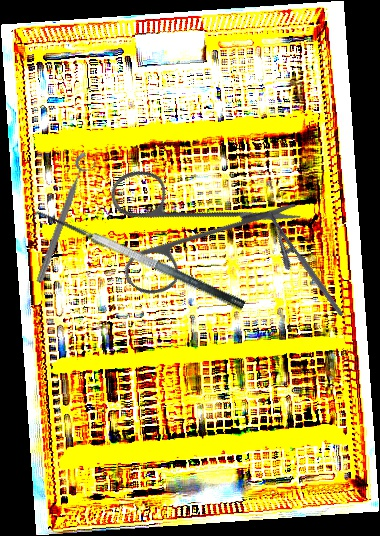Fixation Ring: (32, 150, 100, 288)
Iris Scissors: (72, 110, 305, 342)
Needle Holder: (253, 210, 345, 327)
Spatula Surgical: (27, 200, 247, 329)
